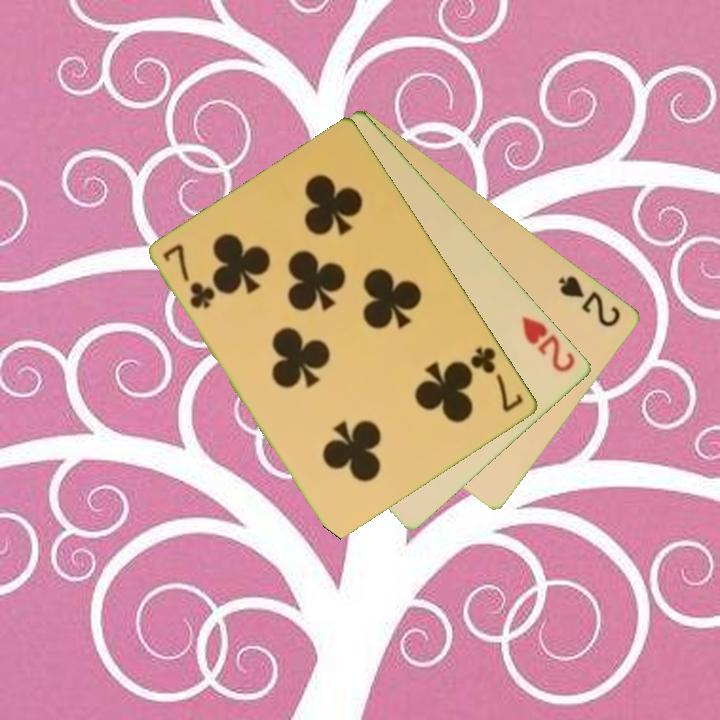2h: (518, 312, 579, 376)
2s: (555, 271, 625, 330)
7c: (467, 343, 527, 416), (159, 240, 219, 312)
